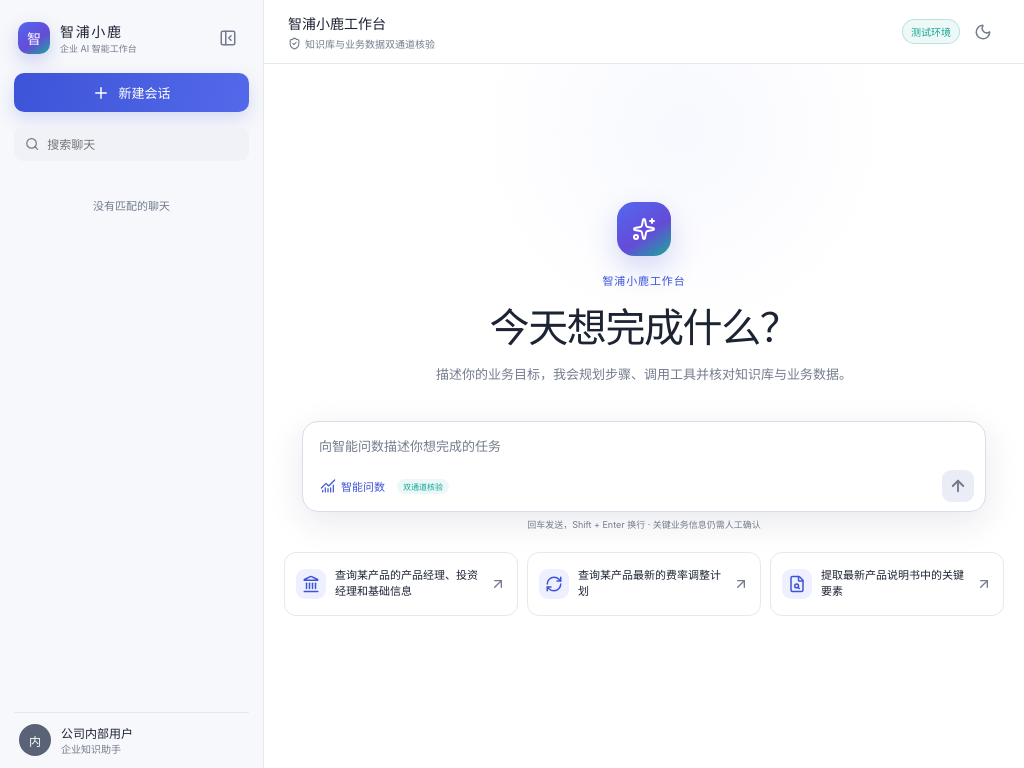
Test case: App › 默认并列展示左侧会话列表并支持折叠与恢复
Expected: the heading "今天想完成什么？" is shown, [490,296,798,354]
Click the button named "关闭侧边栏" at point(228, 38), box [211,21,245,55]
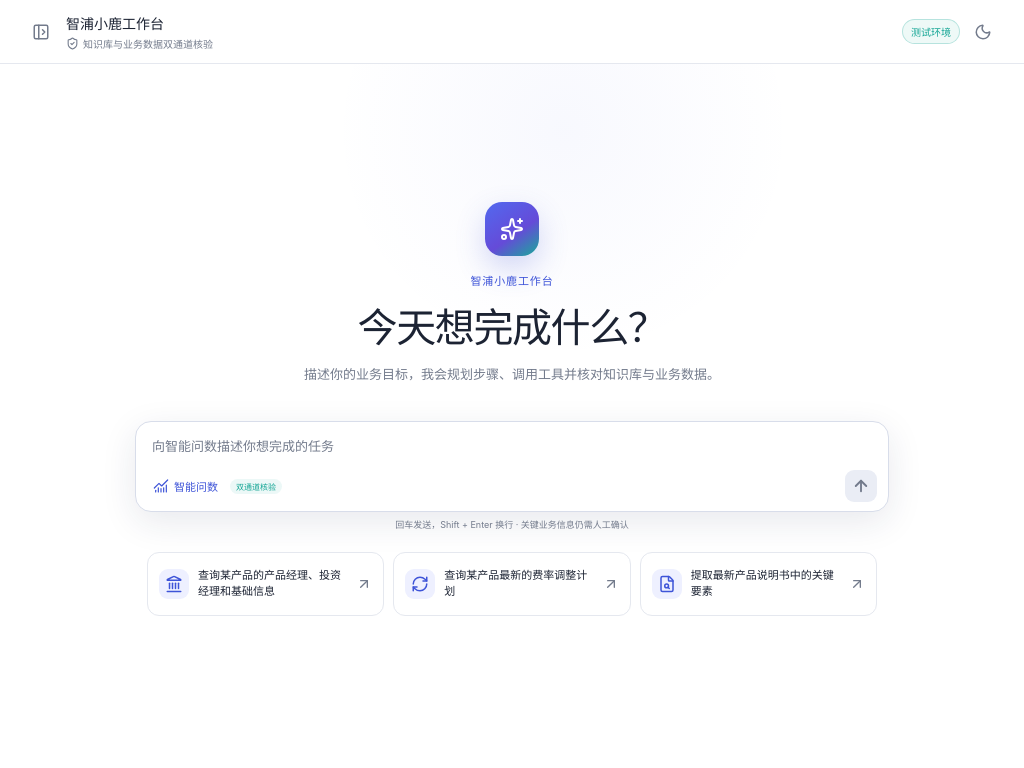
Result: the element "聊天记录" is gone
Result: the button named "打开侧边栏" is shown
Click the button named "打开侧边栏" at point(41, 32), box [24,14,58,48]
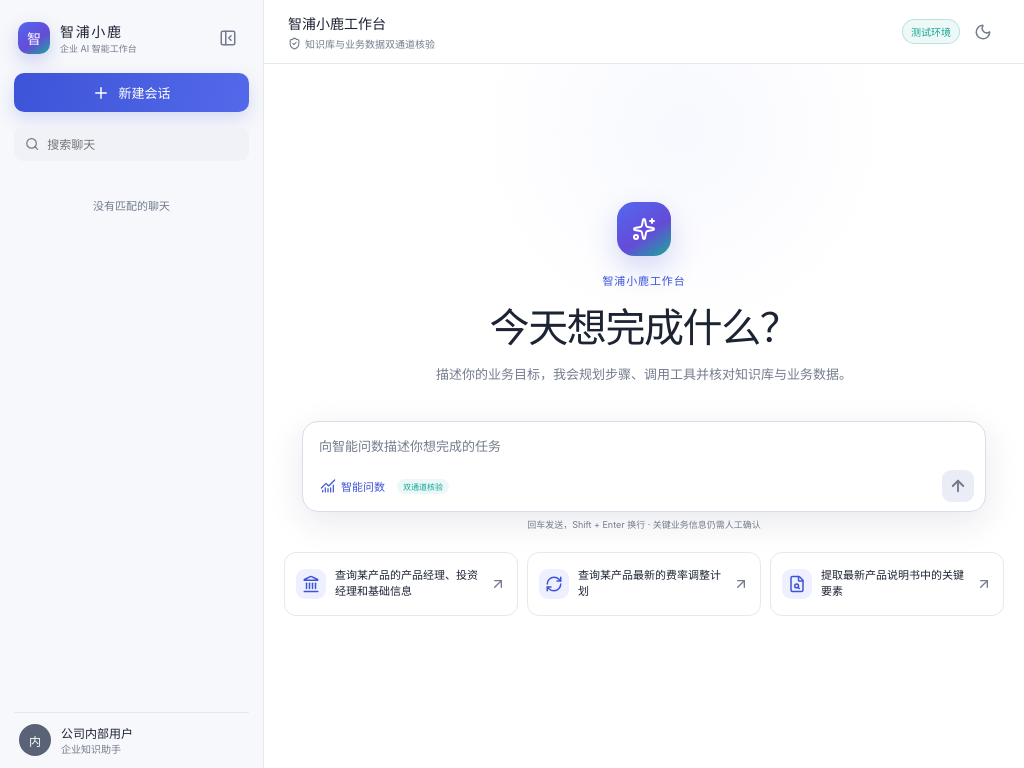
Result: the button named "关闭侧边栏" is shown at [211,21,245,55]
